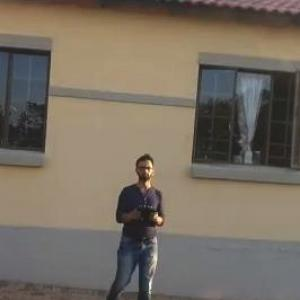follow: (99, 148, 168, 299)
